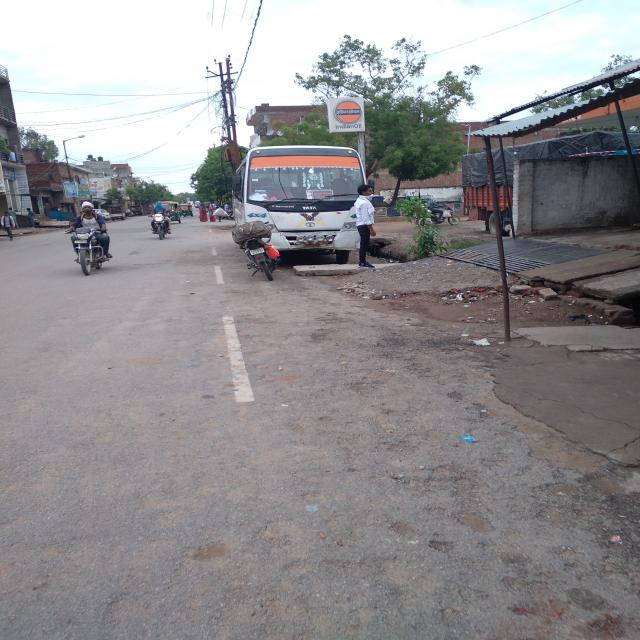Bus: (233, 145, 365, 262)
Truck: (492, 131, 625, 235), (68, 204, 112, 275), (462, 152, 495, 235), (628, 134, 640, 152)
Two Wheeler: (65, 201, 113, 259), (67, 201, 113, 259), (72, 228, 107, 275), (243, 236, 275, 281), (232, 221, 272, 245)
